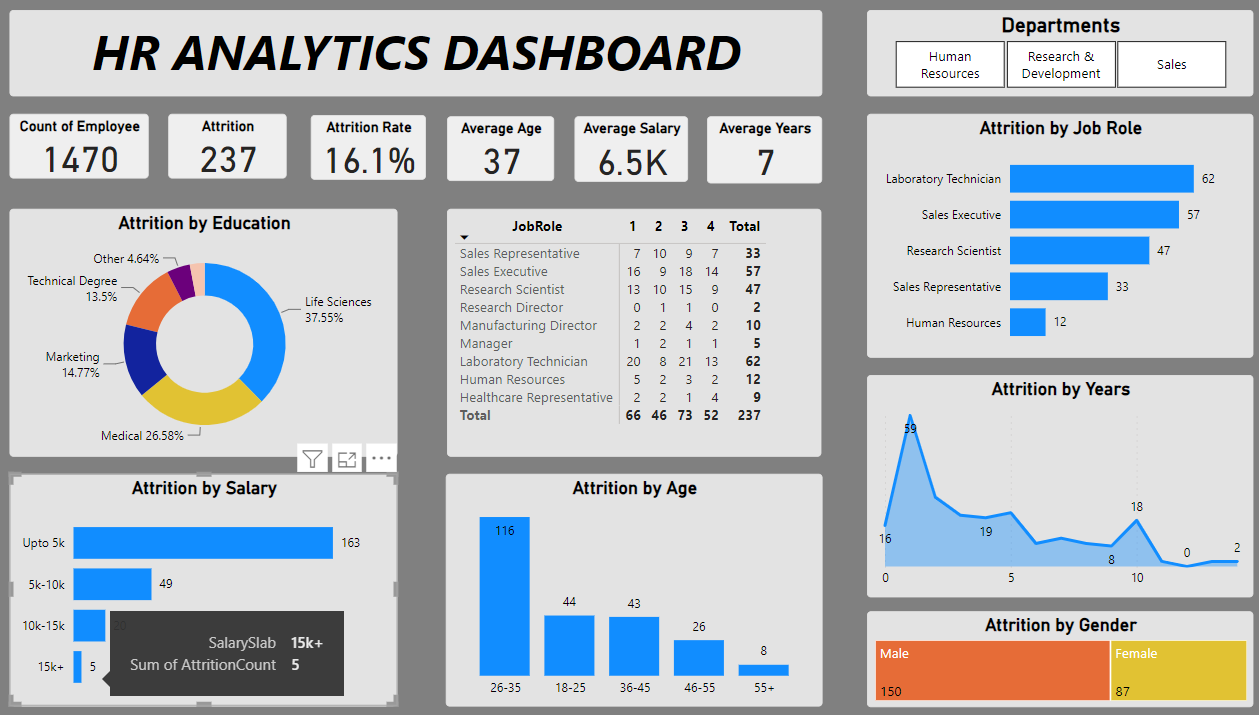

Layout of this report page (visuals, bound fields, positions):
{"tool":"powerbi","page":{"name":"Page 1","canvas":[1280,720],"ordinal":0},"visuals":[{"type":"card","title":"Count of Employee","fields":{"Values":["CountNonNull(HR_Analytics.EmpID)"]},"box":[17,113.8,139.4,64.9],"z":0},{"type":"card","title":"Attrition","fields":{"Values":["Sum(HR_Analytics.AttritionCount)"]},"box":[176.6,113.8,118.1,64.9],"z":1000},{"type":"card","title":"Attrition Rate","fields":{"Values":["HR_Analytics.AttritionRate"]},"box":[319.1,114.9,114.9,64.9],"z":2000},{"type":"card","title":"Average Age ","fields":{"Values":["Avg(HR_Analytics.Age)"]},"box":[455.3,116,107.4,64.9],"z":3000},{"type":"card","title":"Average Salary","fields":{"Values":["Avg(HR_Analytics.MonthlyIncome)"]},"box":[583,116,113.8,66],"z":4000},{"type":"card","title":"Average Years ","fields":{"Values":["Avg(HR_Analytics.YearsAtCompany)"]},"box":[714.9,116,114.9,67],"z":5000},{"type":"donutChart","title":"Attrition by Education","fields":{"Category":["HR_Analytics.EducationField"],"Y":["Sum(HR_Analytics.AttritionCount)"]},"box":[17,208.5,388.3,247.9],"z":6000},{"type":"columnChart","title":"Attrition by Age","fields":{"Category":["HR_Analytics.AgeGroup"],"Y":["Sum(HR_Analytics.AttritionCount)"]},"box":[453.2,473.4,376.6,233],"z":7000},{"type":"pivotTable","fields":{"Rows":["HR_Analytics.JobRole"],"Columns":["HR_Analytics.JobSatisfaction"],"Values":["Sum(HR_Analytics.AttritionCount)"]},"box":[455.3,208.5,374.5,247.9],"z":8000},{"type":"barChart","title":"Attrition by Salary","fields":{"Category":["HR_Analytics.SalarySlab"],"Y":["Sum(HR_Analytics.AttritionCount)"]},"box":[17,473.4,388.3,233],"z":9000},{"type":"barChart","title":"Attrition by Job Role","fields":{"Category":["HR_Analytics.JobRole"],"Y":["Sum(HR_Analytics.AttritionCount)"]},"box":[875.5,113.8,386.2,243.6],"z":10000},{"type":"areaChart","title":"Attrition by Years","fields":{"Category":["HR_Analytics.YearsAtCompany"],"Y":["Sum(HR_Analytics.AttritionCount)"]},"box":[875,375,386.2,222.5],"z":11000},{"type":"treemap","title":"Attrition by Gender","fields":{"Group":["HR_Analytics.Gender"],"Values":["Sum(HR_Analytics.AttritionCount)"]},"box":[875.5,610.6,386.2,95.7],"z":12000},{"type":"slicer","title":"Departments","fields":{"Values":["HR_Analytics.Department"]},"box":[875.5,9.6,386.2,86.2],"z":13000},{"type":"textbox","box":[17,9.6,812.8,86.2],"z":14000}]}

Visuals, with their boxes in screenshot pixels (x1, y1, x2, y2), scaled from the page's 1280x720 canvas onto the 1259x715 screenshot:
"Count of Employee" card: (x1=17, y1=113, x2=154, y2=177)
"Attrition" card: (x1=174, y1=113, x2=290, y2=177)
"Attrition Rate" card: (x1=314, y1=114, x2=427, y2=179)
"Average Age " card: (x1=448, y1=115, x2=553, y2=180)
"Average Salary" card: (x1=573, y1=115, x2=685, y2=181)
"Average Years " card: (x1=703, y1=115, x2=816, y2=182)
"Attrition by Education" donutChart: (x1=17, y1=207, x2=399, y2=453)
"Attrition by Age" columnChart: (x1=446, y1=470, x2=816, y2=701)
pivotTable - HR_Analytics.JobRole x HR_Analytics.JobSatisfaction: (x1=448, y1=207, x2=816, y2=453)
"Attrition by Salary" barChart: (x1=17, y1=470, x2=399, y2=701)
"Attrition by Job Role" barChart: (x1=861, y1=113, x2=1241, y2=355)
"Attrition by Years" areaChart: (x1=861, y1=372, x2=1241, y2=593)
"Attrition by Gender" treemap: (x1=861, y1=606, x2=1241, y2=701)
"Departments" slicer: (x1=861, y1=10, x2=1241, y2=95)
textbox: (x1=17, y1=10, x2=816, y2=95)
